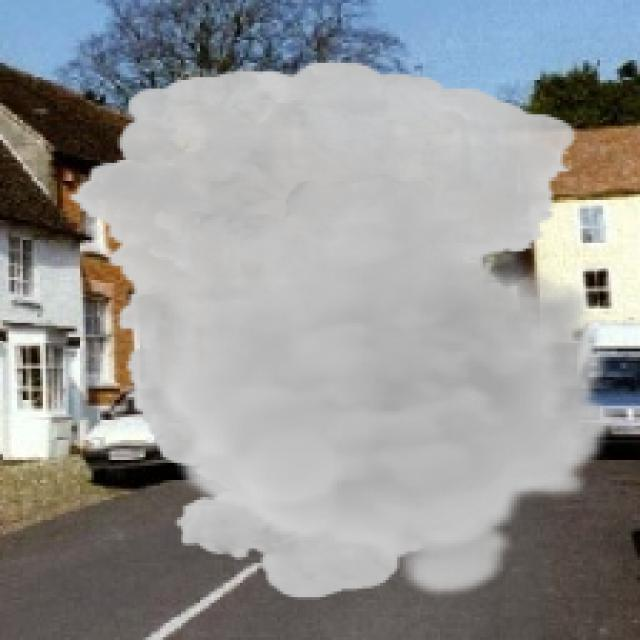smoke: (66, 60, 620, 600)
